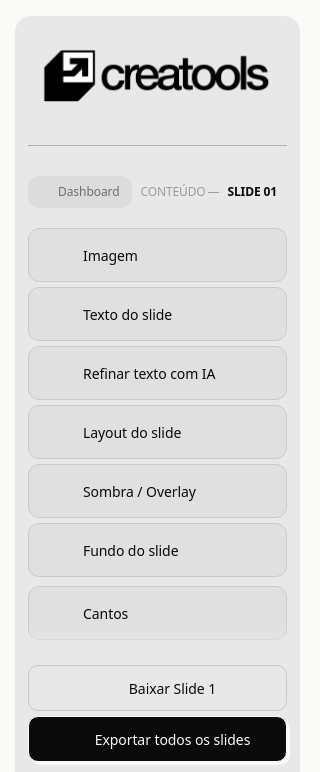
it: Refinar texto — escopo "este campo" sem campo disponível › fica indisponível, com motivo visível, quando o slide não tem texto
Click the button "Refinar texto com IA": {"x": 158, "y": 373} [29,347,286,399]
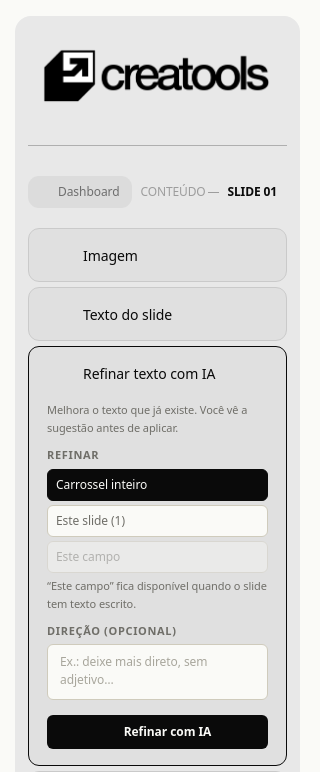
Expected: the button "Este campo" is disabled, [47,541,268,573]
Expected: the text "fica disponível quando o slide tem texto" is shown, [47,578,267,611]
